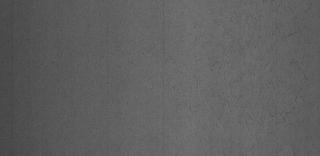silk spot: (179, 6, 317, 144)
